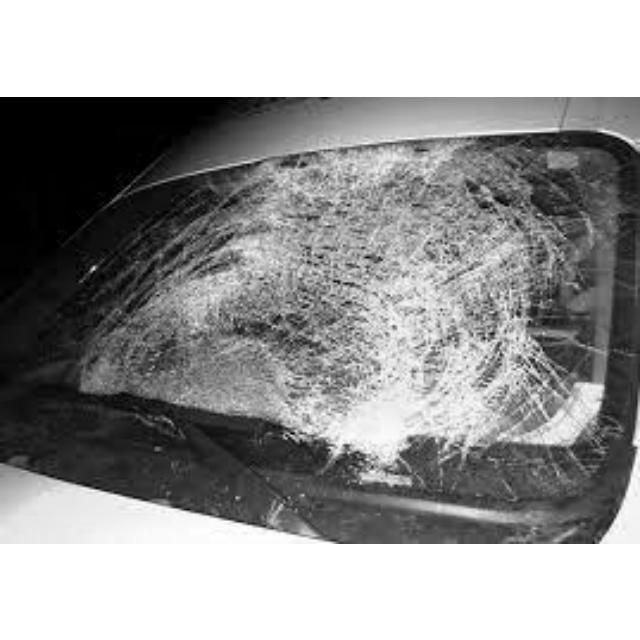Front-windscreen-damage: (1, 116, 638, 529)
